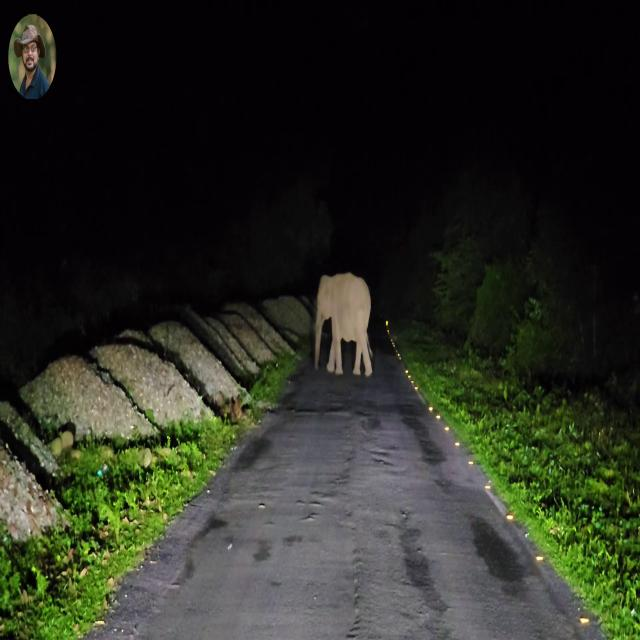Elephant: (314, 272, 373, 378)
